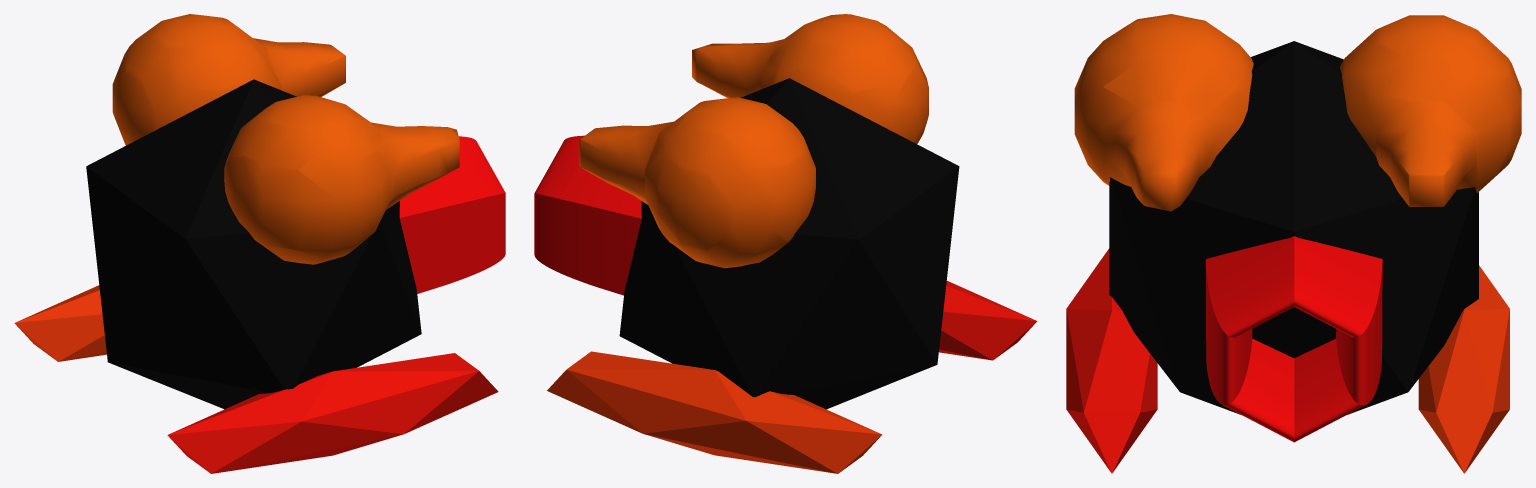
File: bossEnemy.fbx
3 views of the same model, side by side, from view 1: azimuth 30°, elevation 25°; view 2: azimuth 150°, elevation 25°; view 3: azimuth 270°, elevation 25° (orthographic). The views are drawn at different scales.
Parts seen in each view (by area): view 1: ICO球.002, メタボール, ICO球, トーラス.001, ICO球.001; view 2: ICO球.002, メタボール, ICO球.001, トーラス.001, ICO球; view 3: ICO球.002, メタボール, トーラス.001, ICO球, ICO球.001.
Boxes of the visible parts, x1=… form: ICO球.002: x1=86, y1=79, x2=421, y2=409; メタボール: x1=112, y1=14, x2=459, y2=264; ICO球: x1=167, y1=353, x2=498, y2=473; トーラス.001: x1=399, y1=136, x2=505, y2=293; ICO球.001: x1=14, y1=285, x2=106, y2=361; ICO球.002: x1=619, y1=78, x2=959, y2=409; メタボール: x1=579, y1=14, x2=928, y2=268; ICO球.001: x1=547, y1=351, x2=882, y2=473; トーラス.001: x1=534, y1=135, x2=641, y2=295; ICO球: x1=939, y1=281, x2=1037, y2=360; ICO球.002: x1=1109, y1=41, x2=1478, y2=414; メタボール: x1=1074, y1=14, x2=1521, y2=211; トーラス.001: x1=1205, y1=236, x2=1382, y2=442; ICO球: x1=1066, y1=248, x2=1157, y2=473; ICO球.001: x1=1418, y1=265, x2=1509, y2=473.
Bounding box in the file's own units: 6.08 × 5.32 × 5.35.
